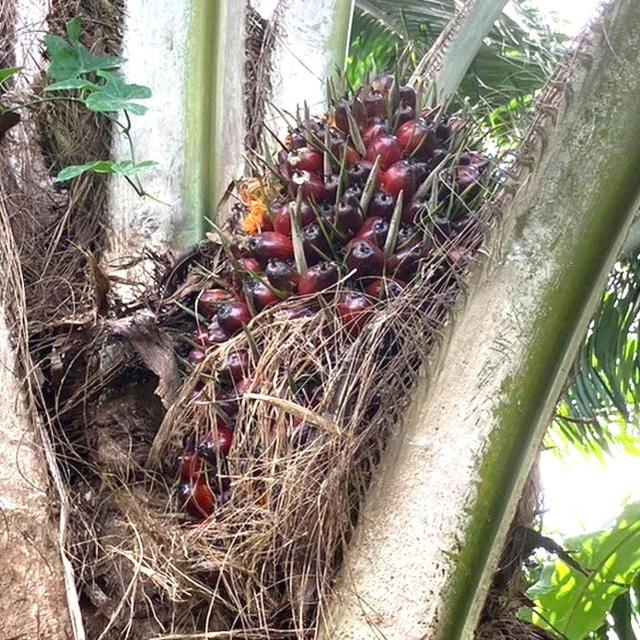ripe: (142, 33, 506, 572)
